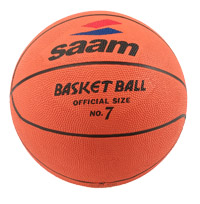basketball: (11, 10, 187, 187)
